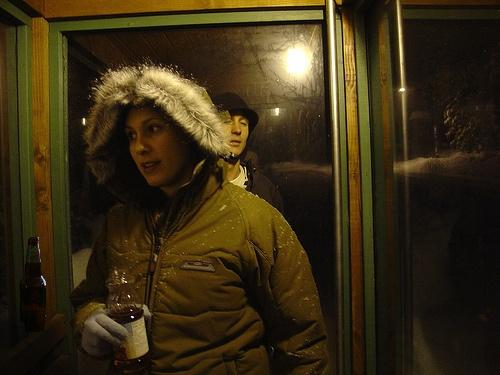tampered: (20, 238, 46, 332)
